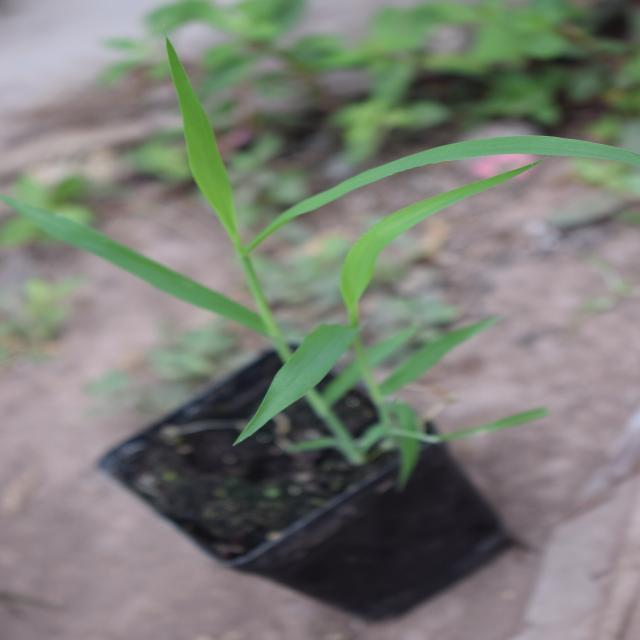crabgrass: (167, 129, 530, 584)
